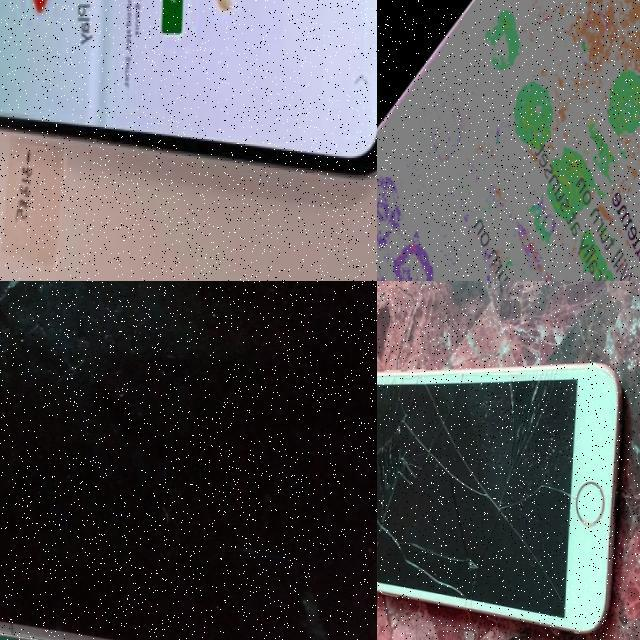dead pixel: (201, 0, 248, 33)
screen crack: (0, 281, 363, 526), (377, 372, 620, 614)
